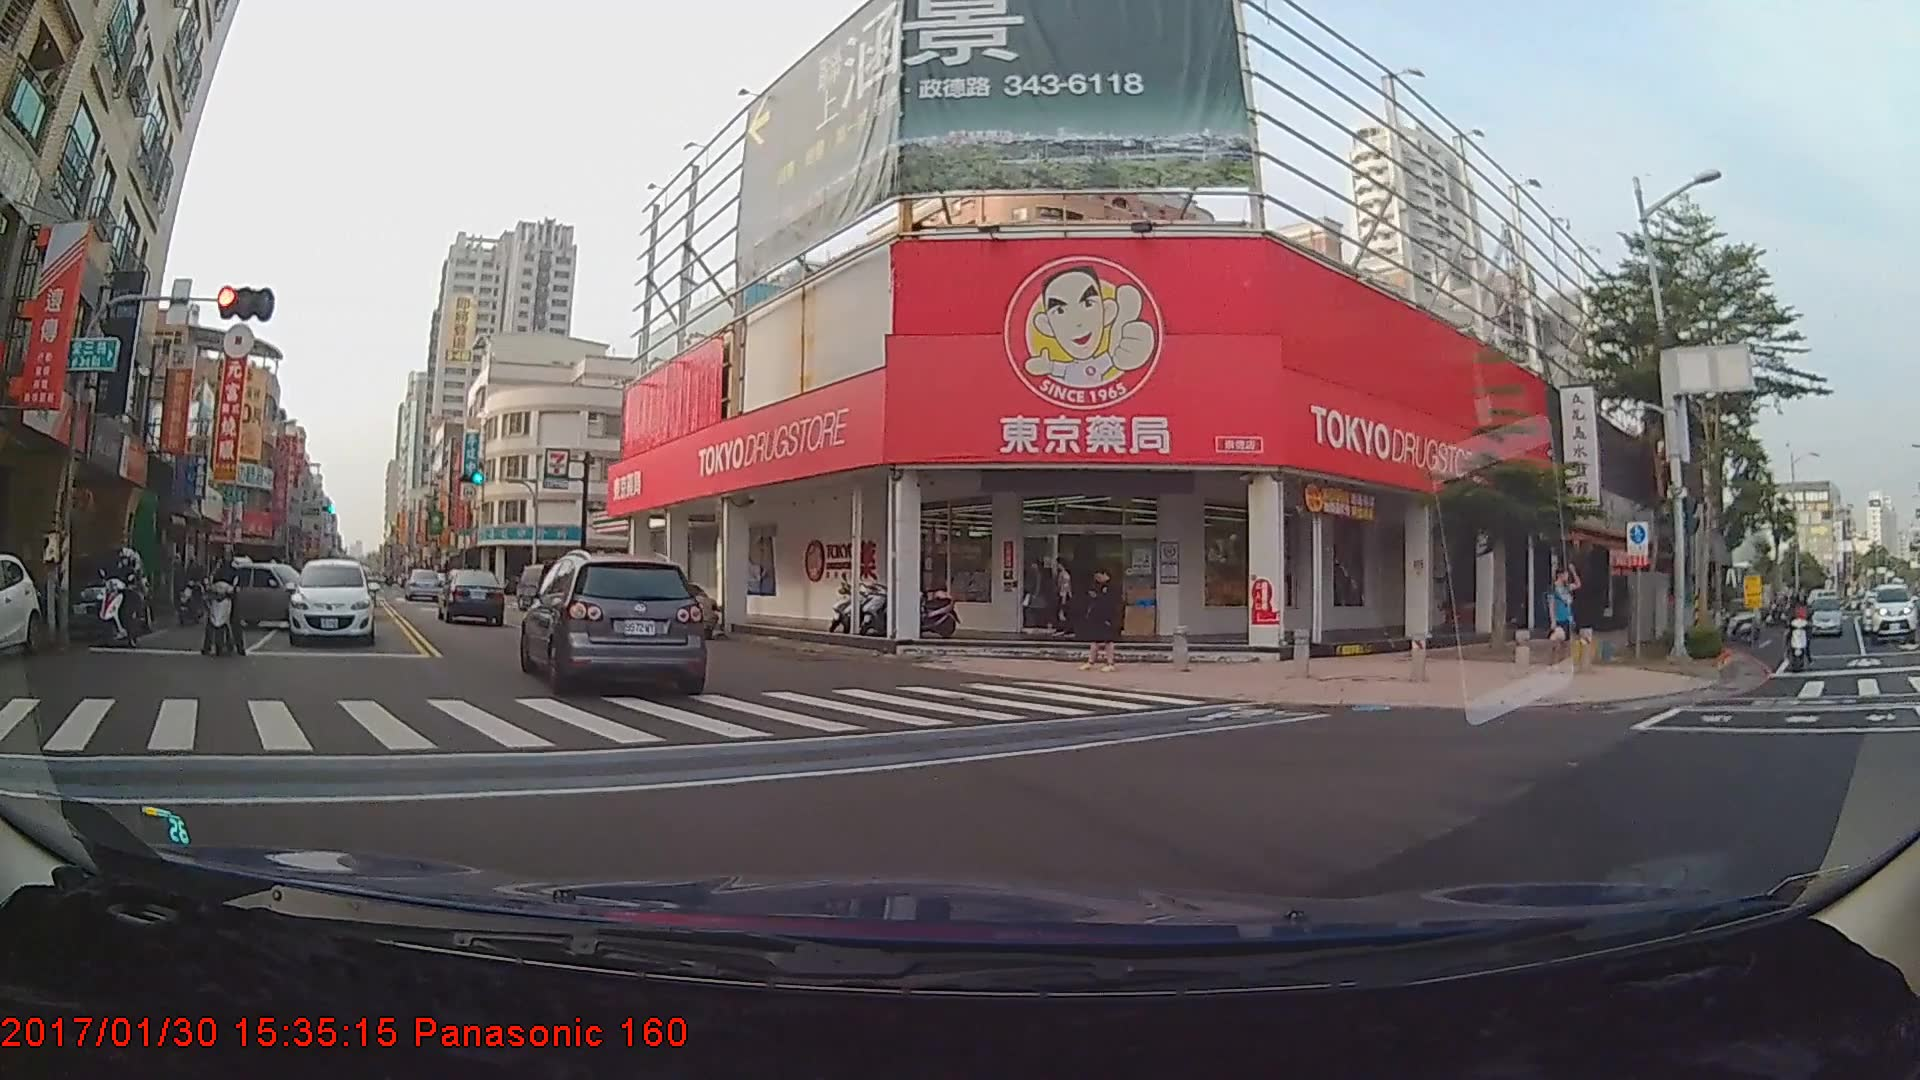pedestrian: (1082, 563, 1127, 675), (1544, 561, 1587, 675), (1025, 555, 1063, 637), (1052, 555, 1078, 639)
rider: (90, 548, 156, 653), (193, 542, 248, 655), (1779, 591, 1817, 668)
vehicle: (518, 554, 708, 693), (34, 541, 152, 637), (285, 558, 375, 646), (210, 561, 322, 629), (440, 568, 504, 625), (1868, 581, 1919, 639), (1801, 593, 1845, 634)
